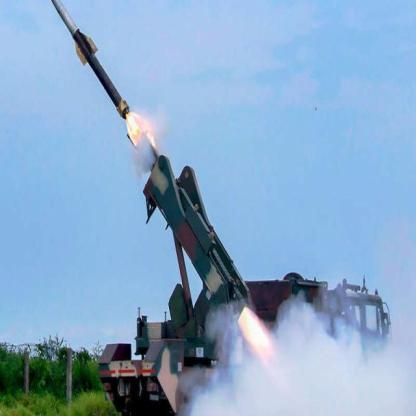MIL_TBM: (50, 0, 144, 146)
